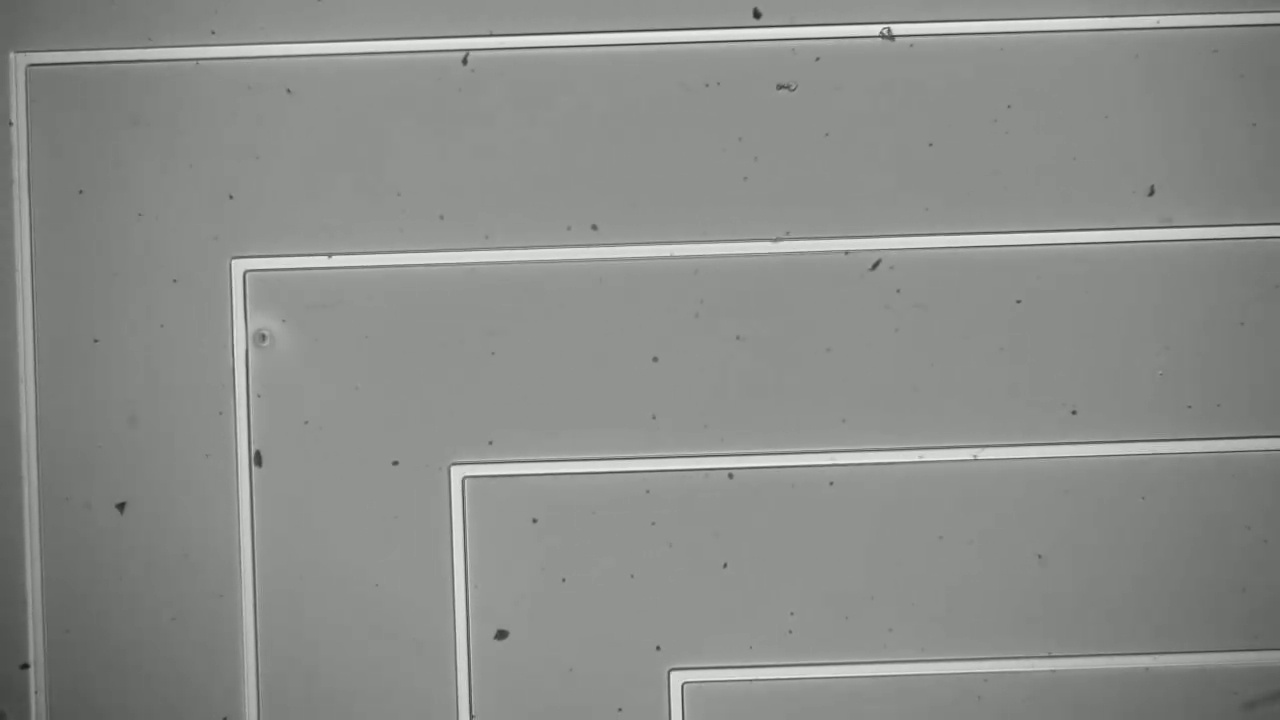stains_enbedded: (866, 17, 907, 51)
